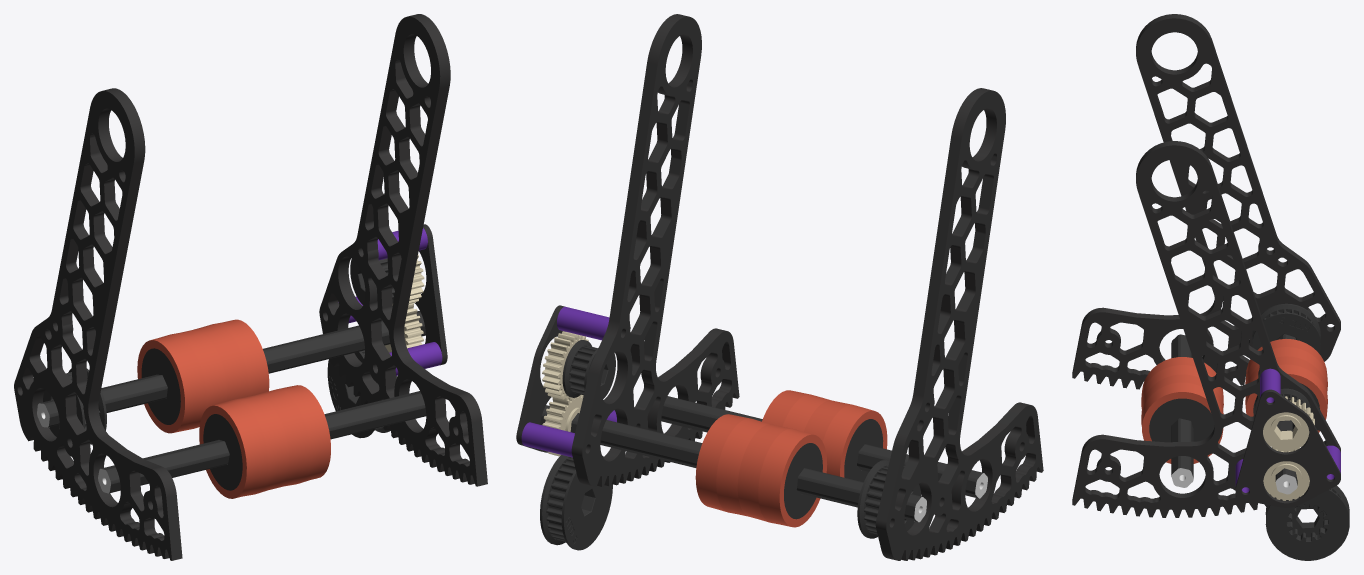
3 views of the same model, side by side, from view 1: azimuth 30°, elevation 25°; view 2: azimuth 150°, elevation 25°; view 3: azimuth 270°, elevation 25° (orthographic). The views are drawn at different scales.
Parts seen in each view (by area): view 1: 0302 - PlacaHoodL, 0301 - PlacaHoodR, 2" Stealth Wheel (40A, 1/2" Hex Bore) (×4), 1/2" Rounded Hex (7.625"L 13.75mm OD), 1/2" Rounded Hex (9.0064"L 13.75mm OD), 0303 - Contrapunto1, 30t Custom HTD 5mm Pulley (0.375" Wide, 1/2" Hex Bore w/ TTB, 0314 - Spacer Contrapunto2, 24t Custom HTD 5mm Pulley (0.375" Wide, 1/2" Hex Bore w/ TTB, 26t Aluminum Spur Gear (20 DP, 1/2" Hex Bore), 17t Custom HTD 5mm Pulley (0.375" Wide, 1/2" Hex Bore w/ TTB; view 2: 0302 - PlacaHoodL, 0301 - PlacaHoodR, 2" Stealth Wheel (40A, 1/2" Hex Bore) (×4), 1/2" Rounded Hex (9.0064"L 13.75mm OD), 30t Custom HTD 5mm Pulley (0.375" Wide, 1/2" Hex Bore w/ TTB, 1/2" Rounded Hex (7.625"L 13.75mm OD), 0314 - Spacer Contrapunto2 (×2), 26t Aluminum Spur Gear (20 DP, 1/2" Hex Bore) (×2), 0303 - Contrapunto1, 17t Custom HTD 5mm Pulley (0.375" Wide, 1/2" Hex Bore w/ TTB, 24t Custom HTD 5mm Pulley (0.375" Wide, 1/2" Hex Bore w/ TTB; view 3: 0301 - PlacaHoodR, 0302 - PlacaHoodL, 2" Stealth Wheel (40A, 1/2" Hex Bore) (×4), 0303 - Contrapunto1, 30t Custom HTD 5mm Pulley (0.375" Wide, 1/2" Hex Bore w/ TTB, 26t Aluminum Spur Gear (20 DP, 1/2" Hex Bore) (×2), 24t Custom HTD 5mm Pulley (0.375" Wide, 1/2" Hex Bore w/ TTB, 1/2" Rounded Hex (7.625"L 13.75mm OD), 1/2" Rounded Hex (9.0064"L 13.75mm OD), 0314 - Spacer Contrapunto2, 17t Custom HTD 5mm Pulley (0.375" Wide, 1/2" Hex Bore w/ TTB.
Part boxes in pixels (left/top/right/bottom): 0302 - PlacaHoodL: left=14, top=88, right=182, bottom=560; 0301 - PlacaHoodR: left=319, top=14, right=487, bottom=486; 2" Stealth Wheel (40A, 1/2" Hex Bore) (×4): left=137, top=319, right=330, bottom=498; 1/2" Rounded Hex (7.625"L 13.75mm OD): left=98, top=391, right=426, bottom=493; 1/2" Rounded Hex (9.0064"L 13.75mm OD): left=37, top=311, right=425, bottom=427; 0303 - Contrapunto1: left=415, top=224, right=447, bottom=365; 30t Custom HTD 5mm Pulley (0.375" Wide, 1/2" Hex Bore w/ TTB: left=327, top=350, right=397, bottom=438; 0314 - Spacer Contrapunto2: left=389, top=342, right=442, bottom=375; 24t Custom HTD 5mm Pulley (0.375" Wide, 1/2" Hex Bore w/ TTB: left=43, top=368, right=106, bottom=444; 26t Aluminum Spur Gear (20 DP, 1/2" Hex Bore): left=385, top=303, right=423, bottom=352; 17t Custom HTD 5mm Pulley (0.375" Wide, 1/2" Hex Bore w/ TTB: left=350, top=258, right=394, bottom=304; 0302 - PlacaHoodL: left=875, top=88, right=1043, bottom=560; 0301 - PlacaHoodR: left=571, top=14, right=739, bottom=486; 2" Stealth Wheel (40A, 1/2" Hex Bore) (×4): left=695, top=390, right=887, bottom=527; 1/2" Rounded Hex (9.0064"L 13.75mm OD): left=540, top=405, right=926, bottom=522; 30t Custom HTD 5mm Pulley (0.375" Wide, 1/2" Hex Bore w/ TTB: left=540, top=455, right=612, bottom=550; 1/2" Rounded Hex (7.625"L 13.75mm OD): left=661, top=396, right=987, bottom=498; 0314 - Spacer Contrapunto2 (×2): left=521, top=306, right=609, bottom=457; 26t Aluminum Spur Gear (20 DP, 1/2" Hex Bore) (×2): left=542, top=331, right=588, bottom=456; 0303 - Contrapunto1: left=516, top=305, right=564, bottom=452; 17t Custom HTD 5mm Pulley (0.375" Wide, 1/2" Hex Bore w/ TTB: left=562, top=340, right=615, bottom=399; 24t Custom HTD 5mm Pulley (0.375" Wide, 1/2" Hex Bore w/ TTB: left=857, top=460, right=921, bottom=538; 0301 - PlacaHoodR: left=1072, top=141, right=1340, bottom=517; 0302 - PlacaHoodL: left=1072, top=14, right=1340, bottom=389; 2" Stealth Wheel (40A, 1/2" Hex Bore) (×4): left=1141, top=339, right=1327, bottom=463; 0303 - Contrapunto1: left=1235, top=389, right=1340, bottom=507; 30t Custom HTD 5mm Pulley (0.375" Wide, 1/2" Hex Bore w/ TTB: left=1265, top=485, right=1349, bottom=560; 26t Aluminum Spur Gear (20 DP, 1/2" Hex Bore) (×2): left=1263, top=396, right=1314, bottom=500; 24t Custom HTD 5mm Pulley (0.375" Wide, 1/2" Hex Bore w/ TTB: left=1252, top=303, right=1320, bottom=353; 1/2" Rounded Hex (7.625"L 13.75mm OD): left=1171, top=334, right=1193, bottom=487; 1/2" Rounded Hex (9.0064"L 13.75mm OD): left=1275, top=334, right=1297, bottom=494; 0314 - Spacer Contrapunto2: left=1260, top=368, right=1280, bottom=402; 17t Custom HTD 5mm Pulley (0.375" Wide, 1/2" Hex Bore w/ TTB: left=1277, top=388, right=1311, bottom=431.
Bounding box in the file's own units: 0.2288 × 0.2741 × 0.1704.
